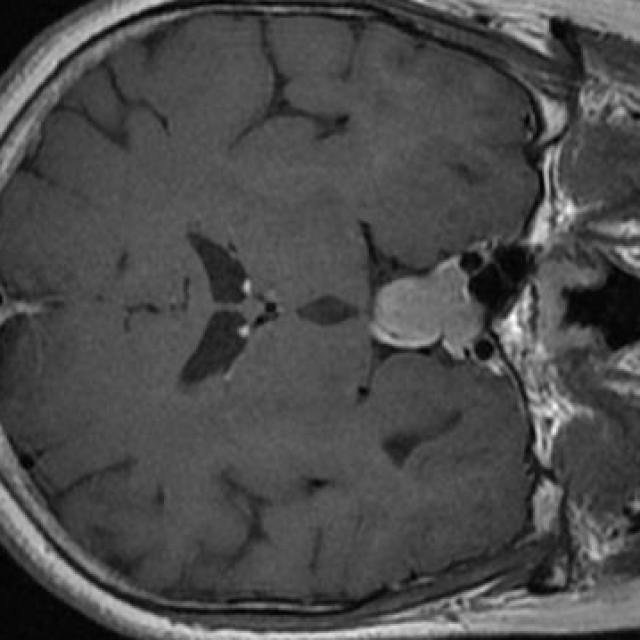pituitary: (369, 255, 483, 360)
